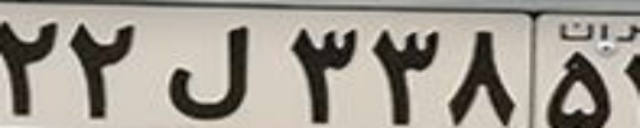2: (69, 20, 134, 118), (0, 19, 56, 116)
3: (370, 27, 438, 125), (291, 27, 359, 123)
5: (544, 49, 612, 127)
8: (448, 29, 519, 125)
lam: (163, 24, 250, 119)
